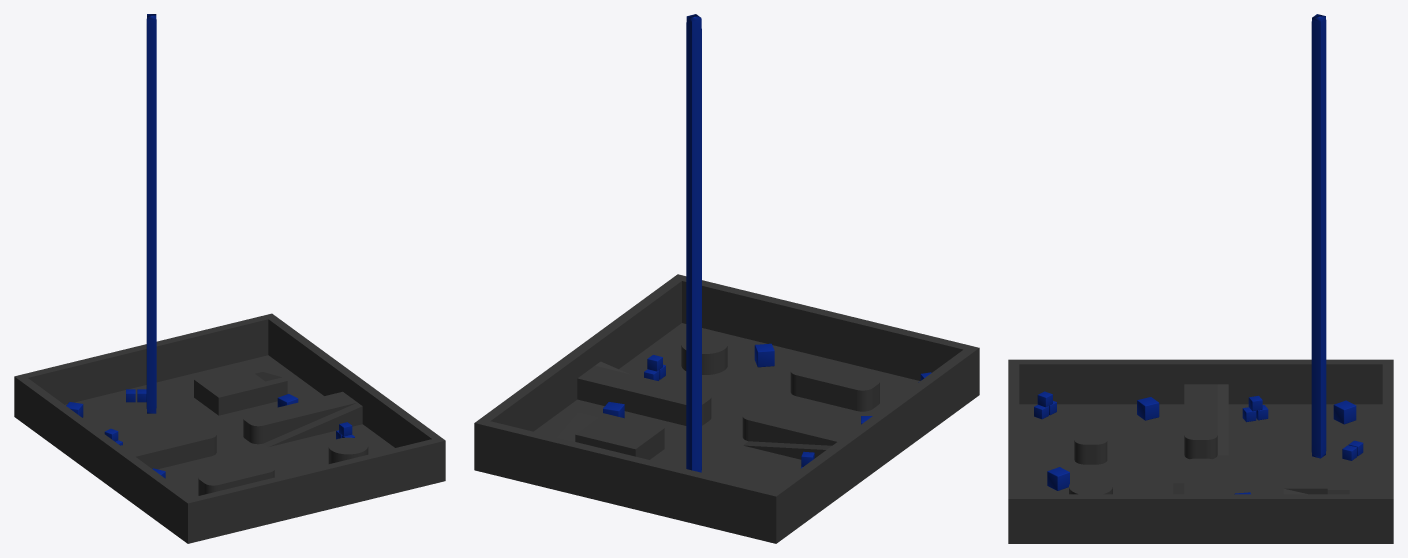
Rendered from Chillenium24HangInThere.fbx.
3 views of the same model, side by side, from view 1: azimuth 30°, elevation 25°; view 2: azimuth 150°, elevation 25°; view 3: azimuth 270°, elevation 25° (orthographic). The views are drawn at different scales.
Parts seen in each view (by area): view 1: SM_Cube, SM_Cube3, SM_Cube2, SM_Cube5, SM_Cube6, SM_ChamferCube10, SM_Cube4, SM_Cube8, SM_Cube15, SM_Ramp5, SM_Cube11; view 2: SM_Cube, SM_Cube2, SM_Cube3, SM_Cube5, SM_Cube6, SM_ChamferCube10, SM_Cube15, SM_Cube4, SM_Cube8, SM_Cube11, SM_Ramp4, SM_QuarterCylinder13; view 3: SM_Cube, SM_Cube6, SM_Cube5, SM_ChamferCube10, SM_Cube3, SM_Cube2, SM_Cube4, SM_Cube8, SM_Cube15, SM_Cube11, SM_Ramp4, SM_ChamferCube4.
Part boxes in pixels (<box>): SM_Cube: <box>14,355,445,543</box>; SM_Cube3: <box>183,437,445,539</box>; SM_Cube2: <box>14,313,276,415</box>; SM_Cube5: <box>19,378,190,535</box>; SM_Cube6: <box>268,317,440,447</box>; SM_ChamferCube10: <box>146,14,156,413</box>; SM_Cube4: <box>194,367,270,415</box>; SM_Cube8: <box>121,427,211,469</box>; SM_Cube15: <box>248,391,357,443</box>; SM_Ramp5: <box>263,402,362,447</box>; SM_Cube11: <box>203,461,269,490</box>; SM_Cube: <box>474,323,979,543</box>; SM_Cube2: <box>474,418,781,538</box>; SM_Cube3: <box>672,274,979,393</box>; SM_Cube5: <box>772,349,973,533</box>; SM_Cube6: <box>480,278,681,431</box>; SM_ChamferCube10: <box>686,14,701,472</box>; SM_Cube15: <box>577,366,704,425</box>; SM_Cube4: <box>575,413,664,459</box>; SM_Cube8: <box>748,407,854,445</box>; SM_Cube11: <box>796,362,873,410</box>; SM_Ramp4: <box>743,441,831,459</box>; SM_QuarterCylinder13: <box>702,344,724,374</box>; SM_Cube: <box>1008,404,1393,543</box>; SM_Cube6: <box>1019,494,1382,538</box>; SM_Cube5: <box>1019,359,1382,404</box>; SM_ChamferCube10: <box>1311,14,1326,458</box>; SM_Cube3: <box>1008,359,1019,538</box>; SM_Cube2: <box>1382,359,1393,538</box>; SM_Cube4: <box>1272,460,1327,494</box>; SM_Cube8: <box>1184,384,1217,435</box>; SM_Cube15: <box>1184,463,1217,494</box>; SM_Cube11: <box>1074,412,1107,439</box>; SM_Ramp4: <box>1217,384,1228,455</box>; SM_ChamferCube4: <box>1333,400,1356,424</box>.
Size of what is drawn, in the model's own units: 3000 by 3500 by 4450.
